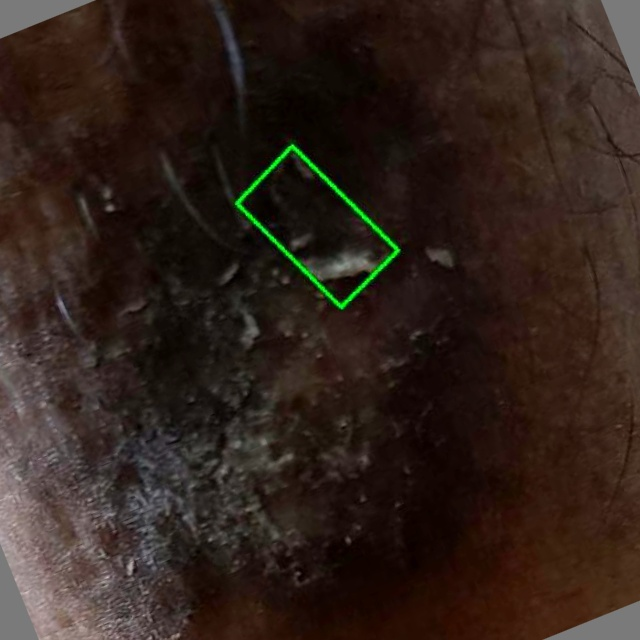Contact Dermatitis: (235, 147, 397, 307)
